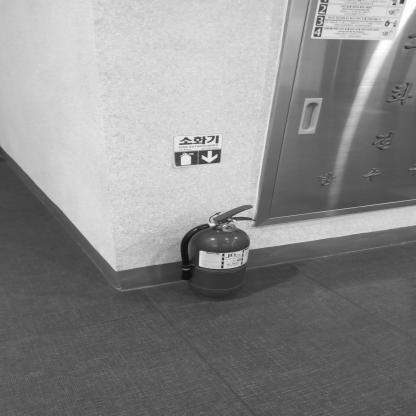FE: (180, 205, 250, 301)
